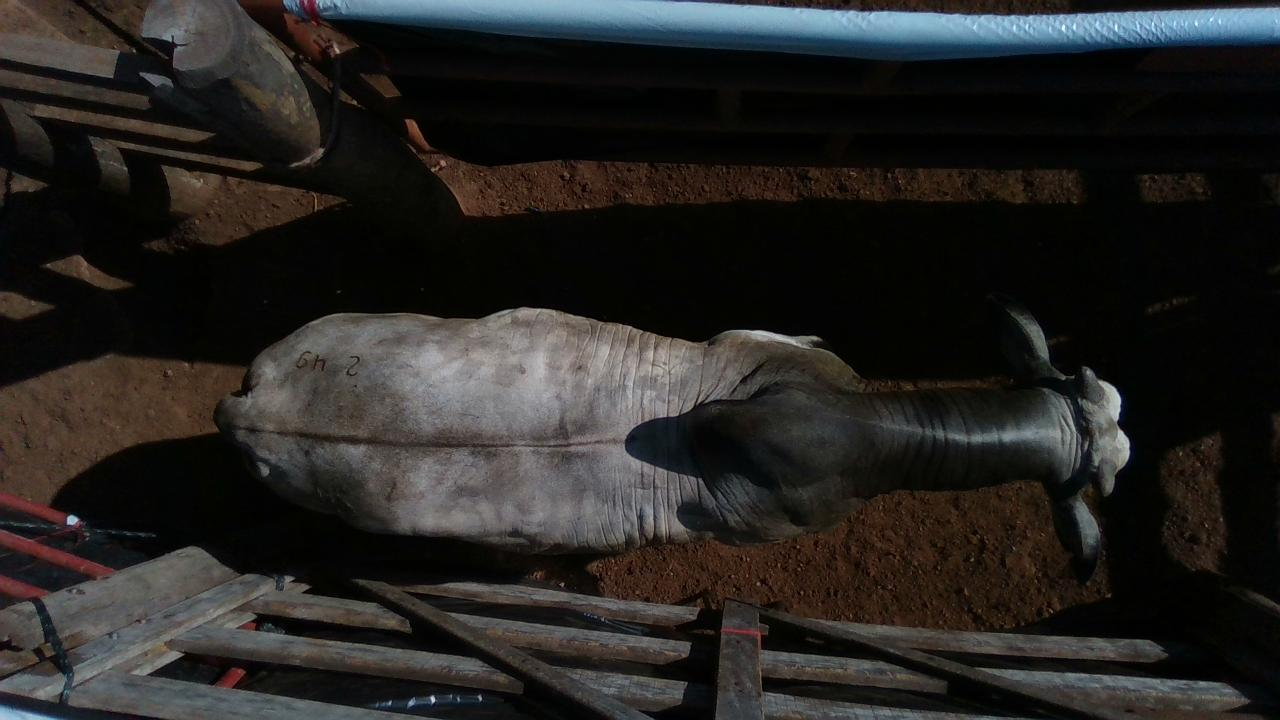cattle: (212, 294, 1132, 583)
